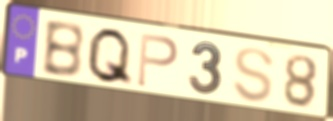3: (187, 40, 224, 98)
8: (280, 54, 322, 111)
B: (40, 20, 87, 81)
P: (135, 31, 181, 90)
Q: (84, 26, 135, 89)
S: (230, 45, 277, 105)
